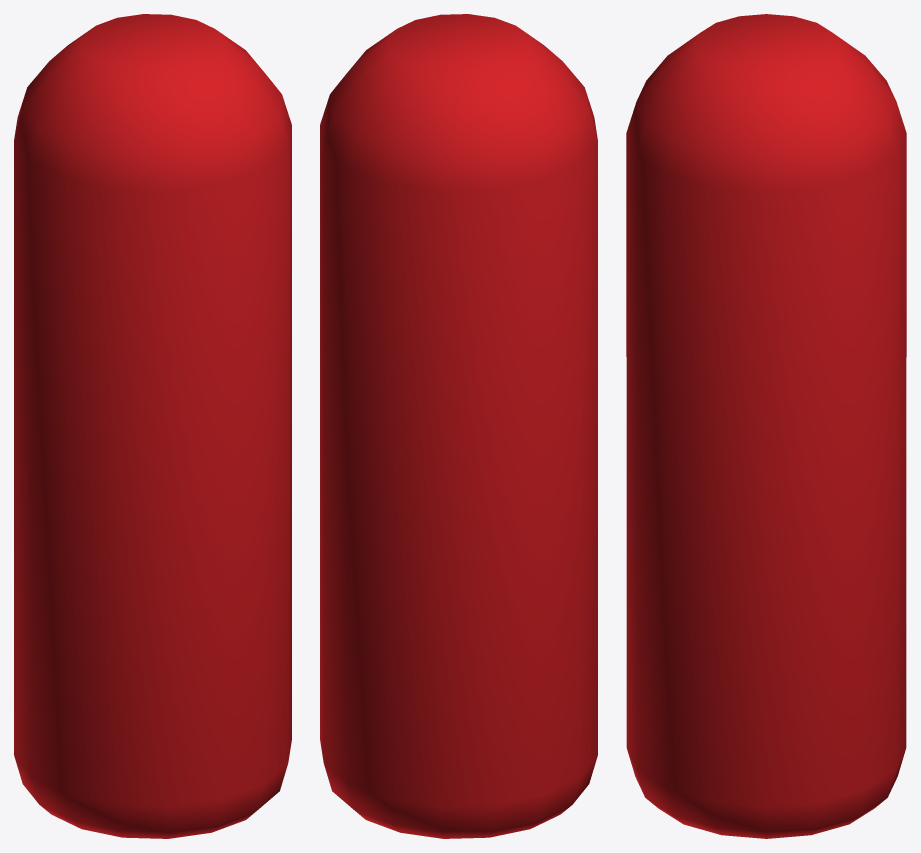
File: VMP_MOD_S_Water_01_01_liquid.fbx
3 renders of one model, left to right at view 1: azimuth 30°, elevation 25°; view 2: azimuth 150°, elevation 25°; view 3: azimuth 270°, elevation 25°, orthographic.
Parts seen in each view (by area): view 1: VMP_MOD_S_Water_01_01_liquid; view 2: VMP_MOD_S_Water_01_01_liquid; view 3: VMP_MOD_S_Water_01_01_liquid.
Part boxes in pixels (x1=…): VMP_MOD_S_Water_01_01_liquid: x1=14, y1=14, x2=291, y2=838; VMP_MOD_S_Water_01_01_liquid: x1=320, y1=14, x2=597, y2=838; VMP_MOD_S_Water_01_01_liquid: x1=626, y1=14, x2=906, y2=838.
Size of the model in its own units: 0.0673 by 0.1975 by 0.0673.
